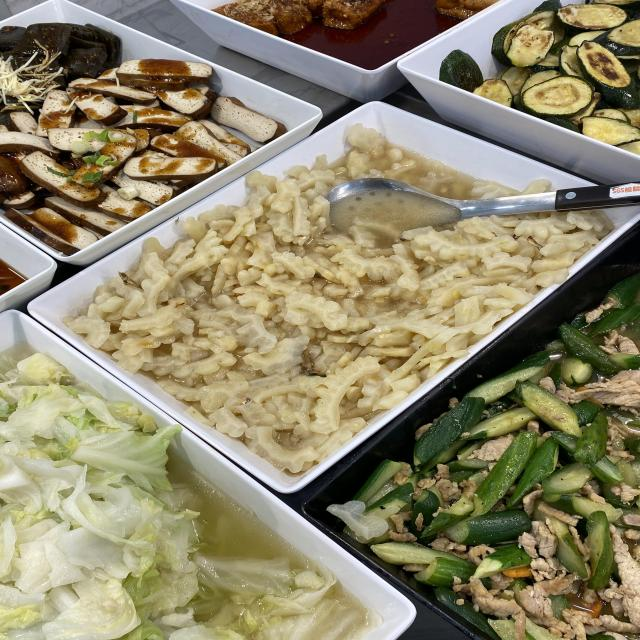bitter gourd: (176, 248, 399, 399)
cabbage: (17, 440, 177, 633)
